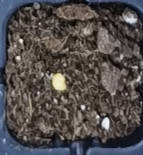chilli seed: (51, 73, 67, 91)
